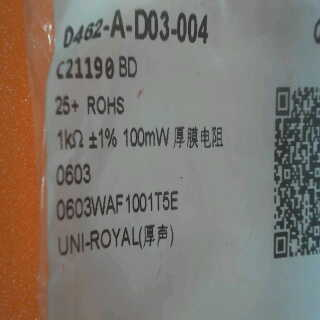1kR: (54, 123, 90, 159)
